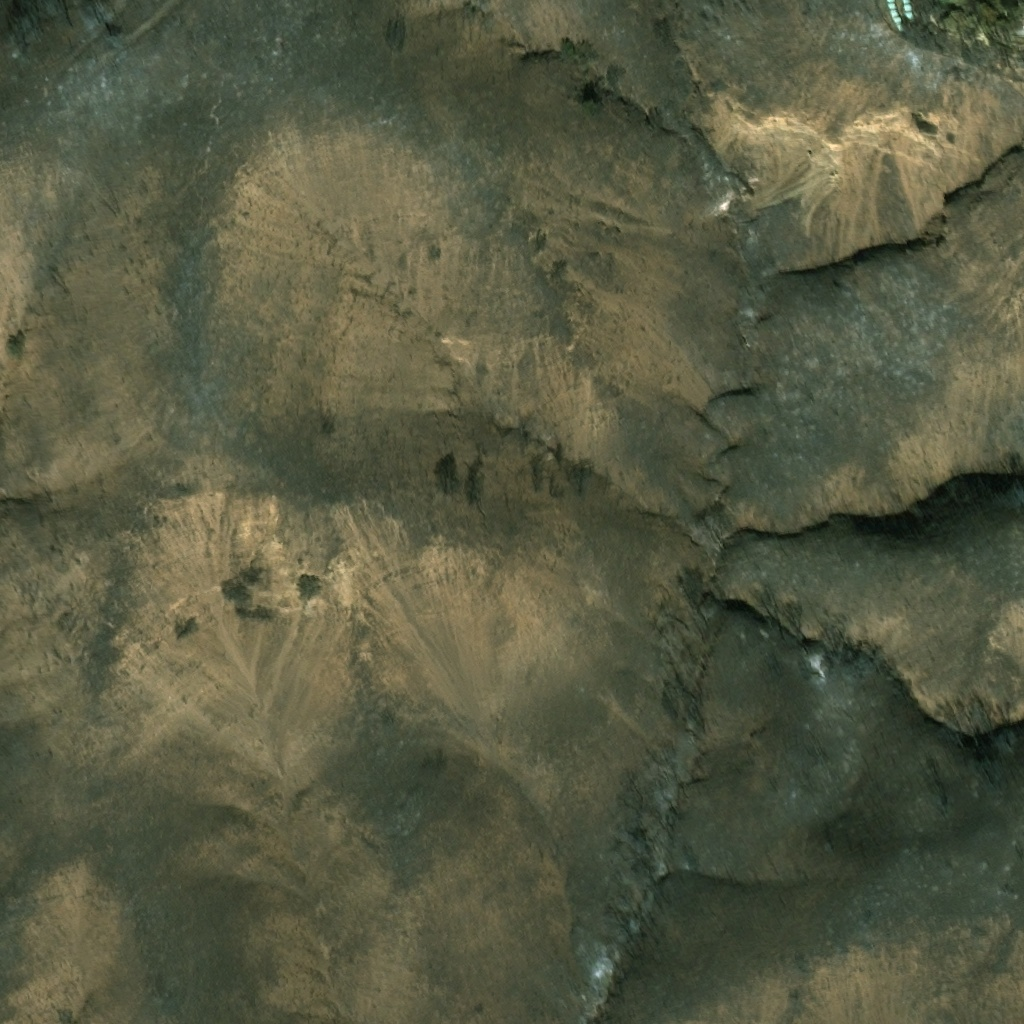4 un-classified: (906, 12, 914, 20), (897, 24, 905, 31), (891, 11, 899, 18), (888, 3, 896, 10), (903, 5, 912, 11), (895, 18, 902, 24), (901, 0, 910, 4)
